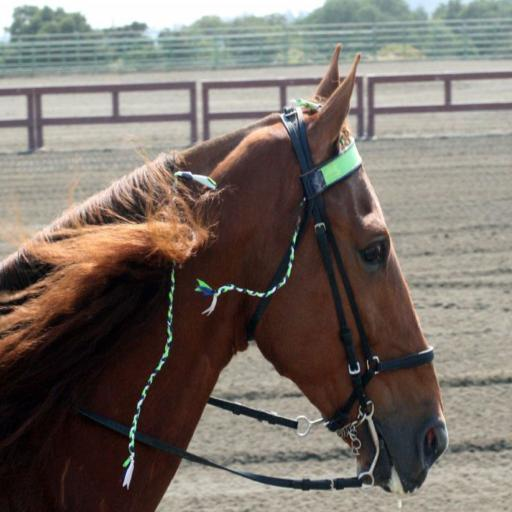horse: (0, 44, 448, 512)
